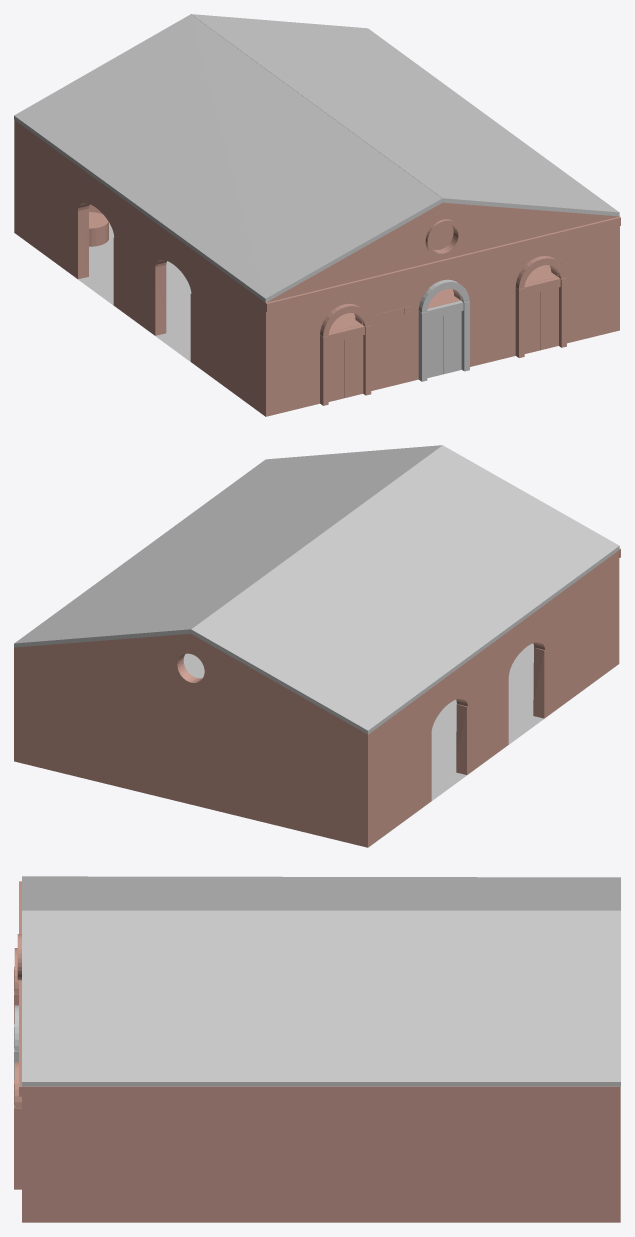
Rendered from iphan_v7.obj.
3 renders of one model, top to bottom at view 1: azimuth 30°, elevation 25°; view 2: azimuth 150°, elevation 25°; view 3: azimuth 270°, elevation 25°, orthographic. The views are drawn at different scales.
Parts seen in each view (by area): view 1: Ceiling, Room, Floor, Building_Frame, Door_Frame.001, Door_Frame.003, Door_Frame.002, Door_Two_Right, Door_One_Right, Door_Three_Right, Door_One_Left, Door_Two_Left (+3 smaller); view 2: Ceiling, Room, Floor; view 3: Ceiling, Room, Door_Frame.003, Building_Frame.
Boxes of the visible parts, box(x1,y1,x2,y2) form: Ceiling: box(14, 14, 619, 302); Room: box(14, 120, 619, 416); Floor: box(15, 222, 265, 416); Building_Frame: box(265, 216, 620, 312); Door_Frame.001: box(418, 279, 469, 381); Door_Frame.003: box(515, 256, 566, 357); Door_Frame.002: box(320, 303, 371, 405); Door_Two_Right: box(344, 335, 363, 397); Door_One_Right: box(443, 311, 461, 374); Door_Three_Right: box(540, 287, 558, 350); Door_One_Left: box(427, 316, 443, 378); Door_Two_Left: box(328, 340, 344, 401); Ceiling: box(14, 445, 619, 734); Room: box(14, 550, 619, 847); Floor: box(183, 643, 618, 847); Ceiling: box(22, 876, 620, 1086); Room: box(22, 1086, 620, 1222); Door_Frame.003: box(14, 1061, 21, 1189); Building_Frame: box(19, 881, 21, 1096).
Size of the model in its own units: 13.01 by 6.16 by 16.22.
